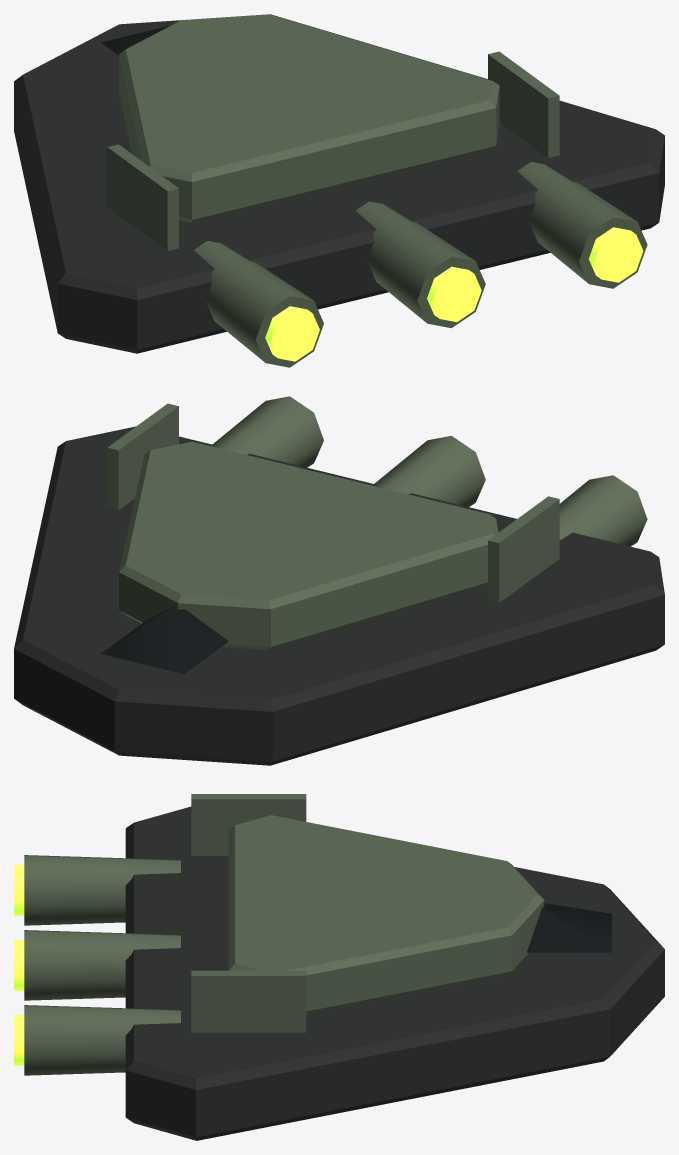
The model's file is Bomber.glb.
3 renders of one model, top to bottom at view 1: azimuth 30°, elevation 25°; view 2: azimuth 150°, elevation 25°; view 3: azimuth 270°, elevation 25°, orthographic. The views are drawn at different scales.
Visible parts, largest first — view 1: bomber_hull, bomber_spine, bomber_fin (×2), bomber_engine_0_nacelle, bomber_engine_2_nacelle, bomber_engine_1_nacelle, bomber_engine_1_bell, bomber_engine_0_bell, bomber_engine_2_bell, bomber_cockpit; view 2: bomber_hull, bomber_spine, bomber_fin (×2), bomber_engine_2_nacelle, bomber_engine_1_nacelle, bomber_cockpit, bomber_engine_0_nacelle; view 3: bomber_hull, bomber_spine, bomber_fin (×2), bomber_engine_0_nacelle, bomber_engine_2_nacelle, bomber_engine_1_nacelle, bomber_cockpit, bomber_engine_0_bell, bomber_engine_1_bell, bomber_engine_2_bell.
Boxes of the visible parts, left/top/right/bottom form: bomber_hull: left=14, top=14, right=664, bottom=353; bomber_spine: left=119, top=14, right=499, bottom=222; bomber_fin (×2): left=107, top=51, right=559, bottom=250; bomber_engine_0_nacelle: left=194, top=241, right=323, bottom=367; bomber_engine_2_nacelle: left=517, top=162, right=647, bottom=288; bomber_engine_1_nacelle: left=355, top=201, right=485, bottom=328; bomber_engine_1_bell: left=427, top=266, right=481, bottom=322; bomber_engine_0_bell: left=265, top=306, right=319, bottom=361; bomber_engine_2_bell: left=589, top=227, right=643, bottom=282; bomber_cockpit: left=101, top=25, right=171, bottom=55; bomber_hull: left=14, top=426, right=664, bottom=765; bomber_spine: left=119, top=441, right=498, bottom=649; bomber_fin (×2): left=107, top=403, right=559, bottom=602; bomber_engine_2_nacelle: left=212, top=396, right=323, bottom=467; bomber_engine_1_nacelle: left=374, top=435, right=485, bottom=506; bomber_cockpit: left=101, top=606, right=228, bottom=673; bomber_engine_0_nacelle: left=559, top=475, right=647, bottom=546; bomber_hull: left=125, top=806, right=664, bottom=1140; bomber_spine: left=228, top=815, right=544, bottom=1013; bomber_fin (×2): left=191, top=794, right=306, bottom=1032; bomber_engine_0_nacelle: left=24, top=855, right=180, bottom=925; bomber_engine_2_nacelle: left=24, top=1005, right=180, bottom=1075; bomber_engine_1_nacelle: left=24, top=930, right=180, bottom=1000; bomber_cockpit: left=527, top=903, right=611, bottom=952; bomber_engine_0_bell: left=14, top=865, right=24, bottom=915; bomber_engine_1_bell: left=14, top=940, right=24, bottom=990; bomber_engine_2_bell: left=14, top=1015, right=24, bottom=1065.
Size of the model in its own units: 17.41 by 3.85 by 17.01.
